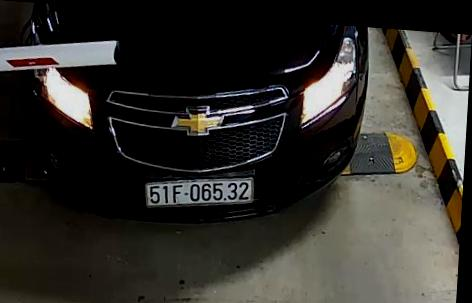License_Plate: (143, 172, 249, 213)
